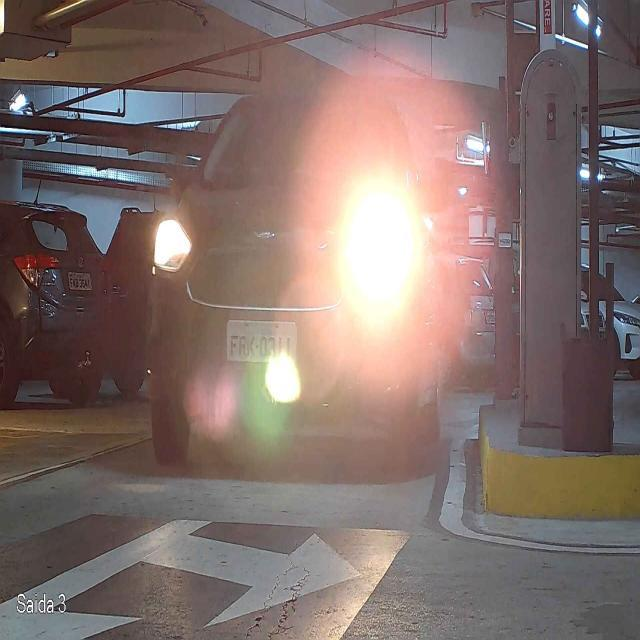old_plate: (224, 318, 299, 365)
